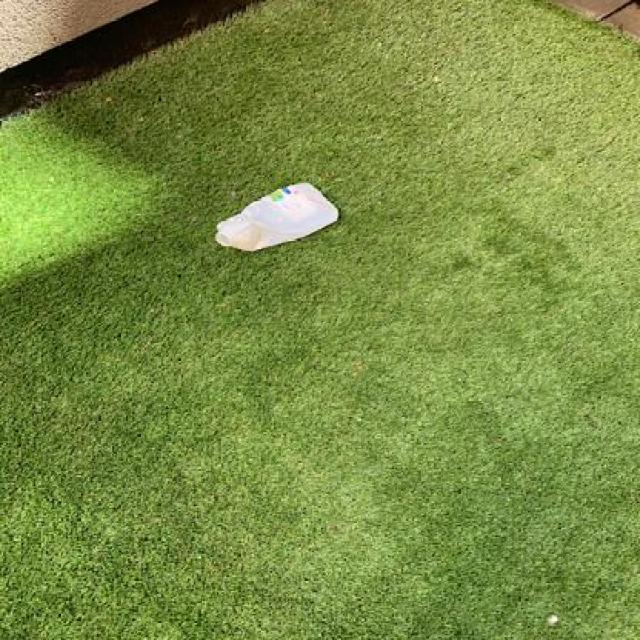trash: (211, 180, 346, 258)
